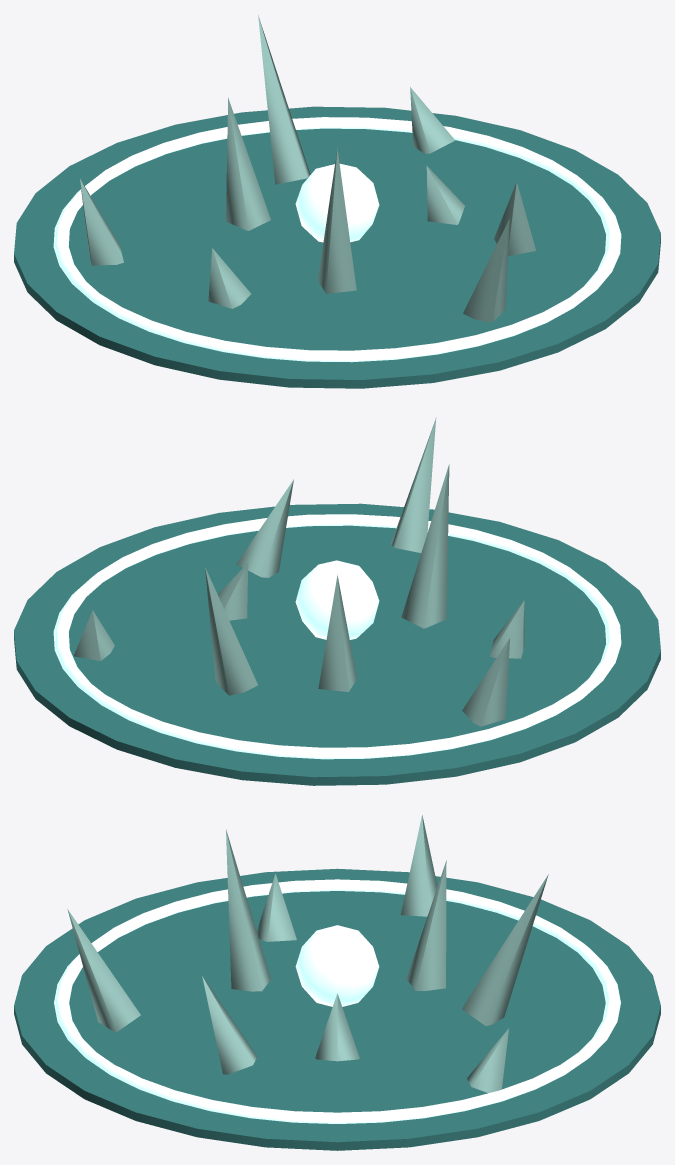
The model's file is prop_coldspot.glb.
3 views of the same model, one above another, from view 1: azimuth 30°, elevation 25°; view 2: azimuth 150°, elevation 25°; view 3: azimuth 270°, elevation 25° (orthographic).
Parts seen in each view (by area): view 1: prop_coldspot; view 2: prop_coldspot; view 3: prop_coldspot.
Boxes of the visible parts, x1,y1,x2,y2 form: prop_coldspot: (14, 15, 660, 388); prop_coldspot: (14, 417, 660, 785); prop_coldspot: (14, 815, 660, 1150).
Bounding box in the file's own units: 3.4 × 0.9183 × 3.4.
